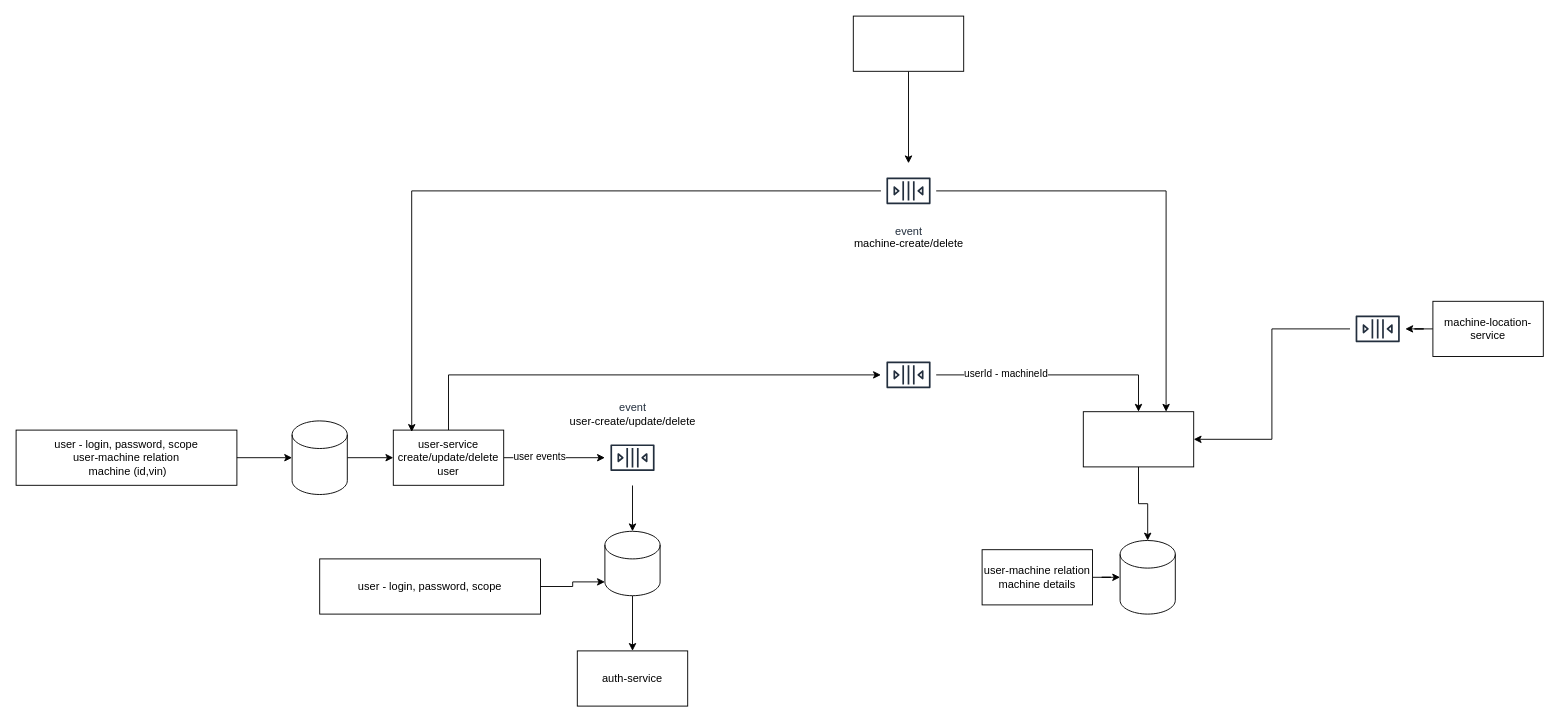
Some shapes in this 1559 by 722 pixel diagram are drawn without their labels. The shapes that lost their labels are listed below. From the top down, each one's centre as x and y in pixels, then its label:
point 908,43: machine-factory
point 1377,328: event location update
point 908,374: event user-machine relation update
point 1138,439: machine-details
